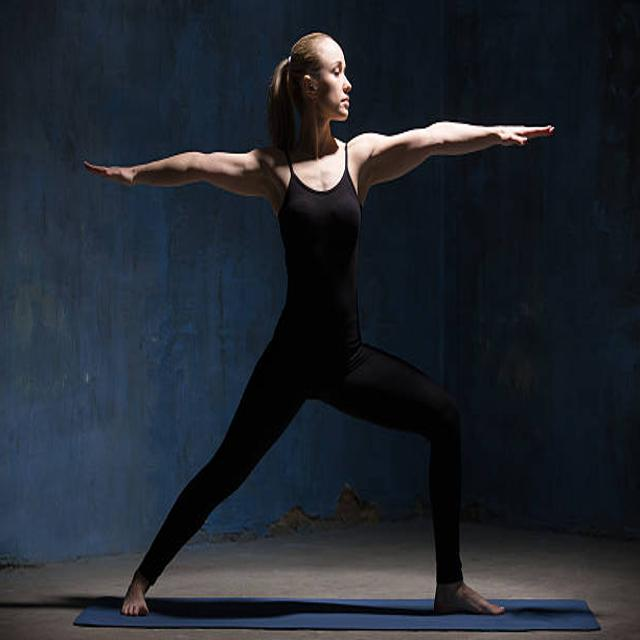Warrior_II: (58, 24, 556, 617)
